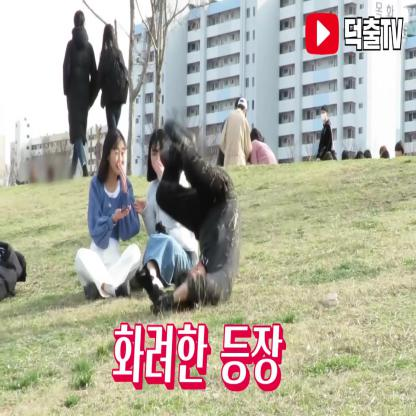Fall_Down: (144, 116, 244, 320)
